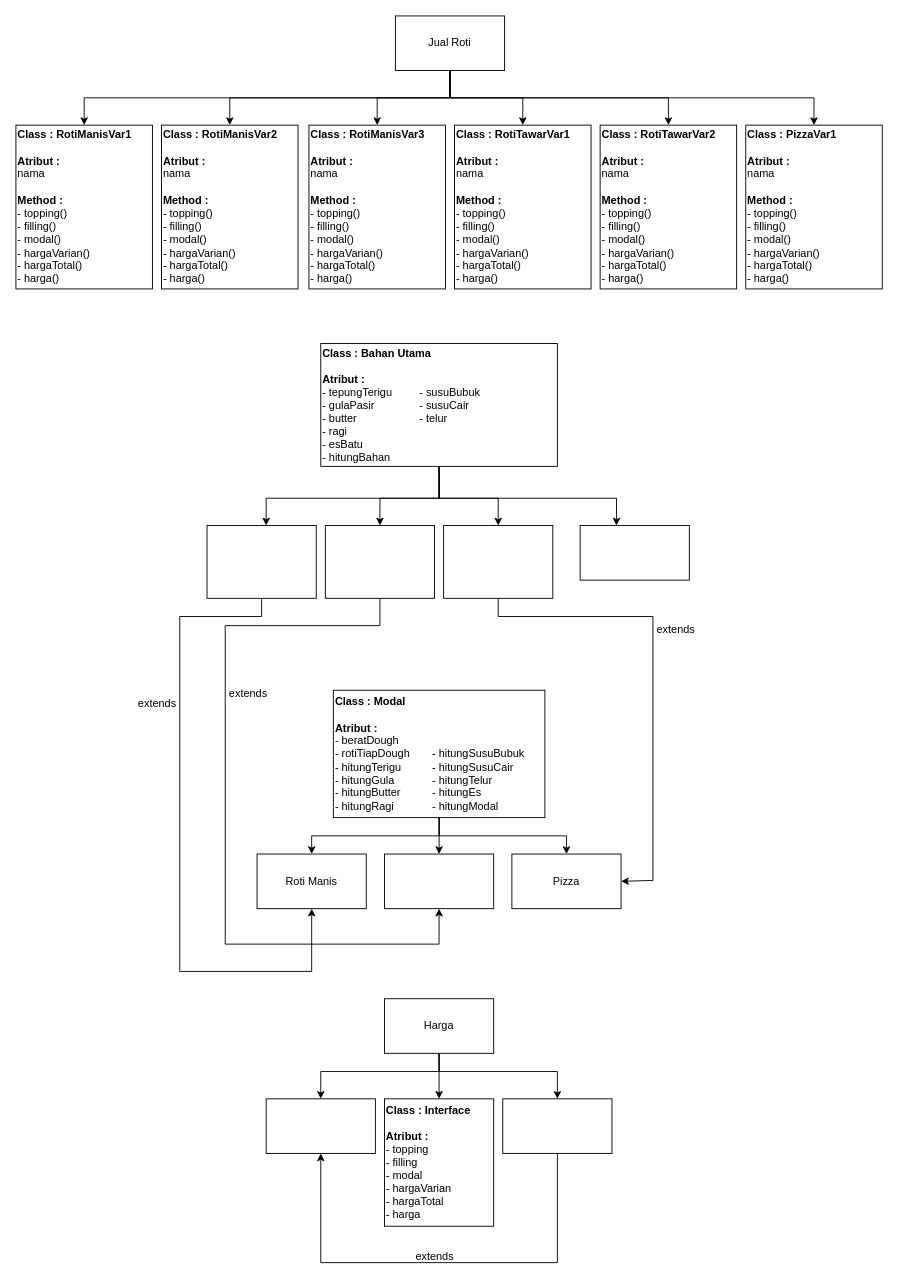
The diagram is 898 pixels wide and 1287 high, and some of its shapes have lost their labels. The centre of each missing label's shape, as x and y in pixels:
Berat Kemasan: the point at 557,1125
Class : Bahan Pizza Method : - hitungBahan(): the point at 498,561
Class : Bahan Roti Manis Method : - hitungBahan(): the point at 261,561
Class : Bahan Roti Tawar Method : - hitungBahan(): the point at 379,561
Harga Bahan: the point at 320,1125
Roti Tawar: the point at 439,881
Variasi: the point at 634,552
